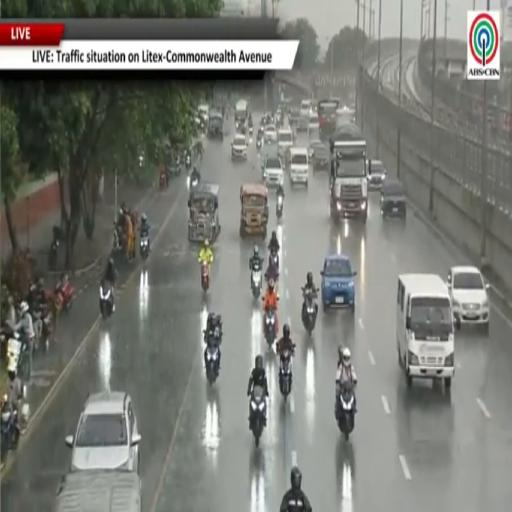car: (65, 392, 141, 472), (447, 266, 489, 329), (321, 253, 356, 312), (381, 179, 407, 218), (262, 150, 284, 188), (290, 147, 308, 188), (309, 140, 330, 172), (367, 159, 386, 189), (278, 128, 293, 157), (297, 100, 311, 131), (232, 134, 247, 159), (309, 138, 326, 157), (308, 111, 319, 137), (264, 124, 277, 143), (198, 104, 210, 122), (300, 100, 311, 118), (288, 107, 299, 125)
jeepney: (53, 471, 141, 511), (188, 183, 220, 242), (240, 184, 268, 238), (207, 110, 223, 140), (235, 100, 248, 133)
motorcycle: (0, 395, 19, 462), (7, 332, 30, 381), (337, 383, 354, 441), (32, 304, 53, 349), (250, 387, 266, 446), (302, 292, 317, 335), (279, 350, 292, 399), (55, 279, 74, 311), (205, 344, 219, 383), (100, 281, 113, 318), (264, 309, 276, 345), (113, 222, 125, 253), (48, 237, 59, 270), (251, 264, 261, 298), (268, 249, 279, 277), (201, 262, 209, 293), (140, 234, 149, 261), (276, 195, 284, 220), (159, 169, 168, 189), (191, 176, 199, 188), (186, 153, 191, 170), (256, 137, 262, 149), (249, 125, 253, 136)
truck: (330, 124, 368, 222), (318, 99, 339, 139)
